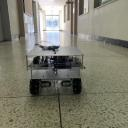cart: (24, 46, 84, 95)
